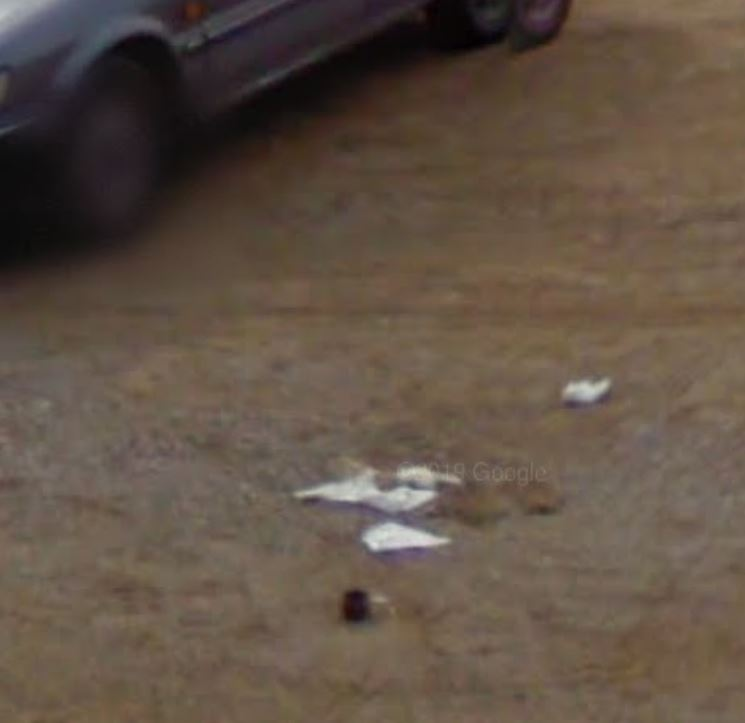trash: (291, 457, 475, 561), (333, 584, 389, 625), (555, 372, 618, 407)
